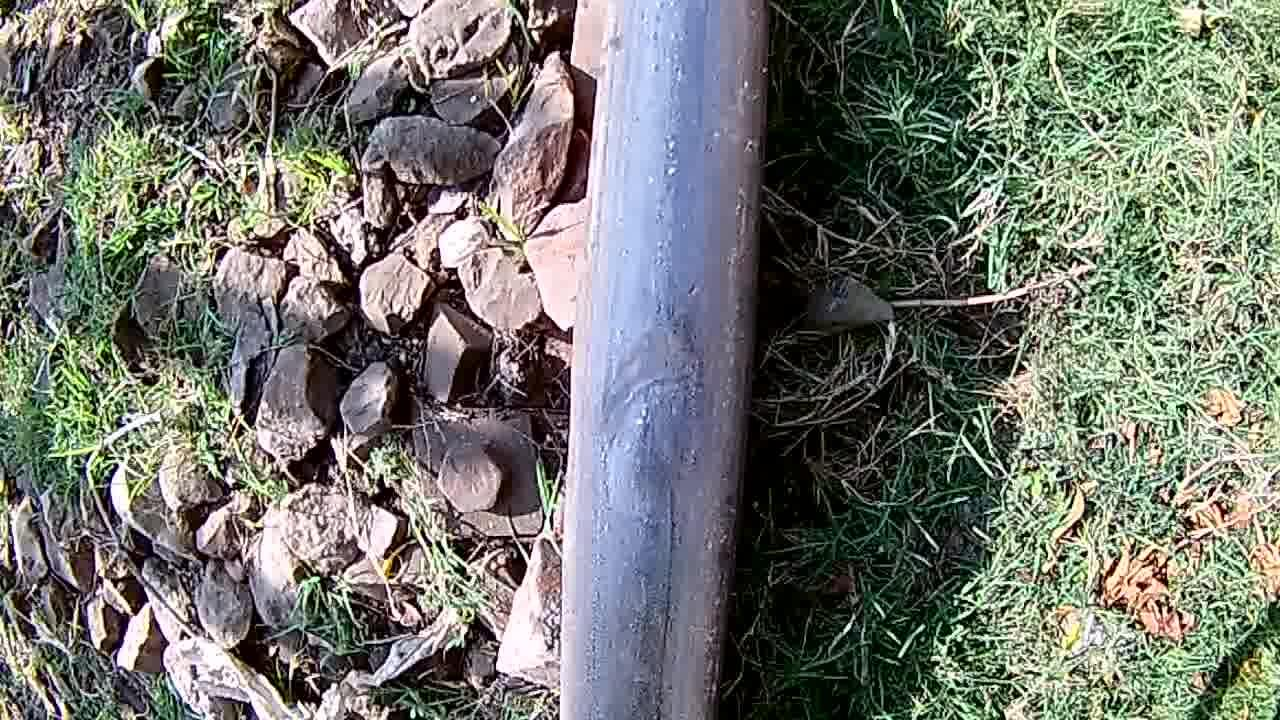bolt_missing: (569, 238, 743, 610)
